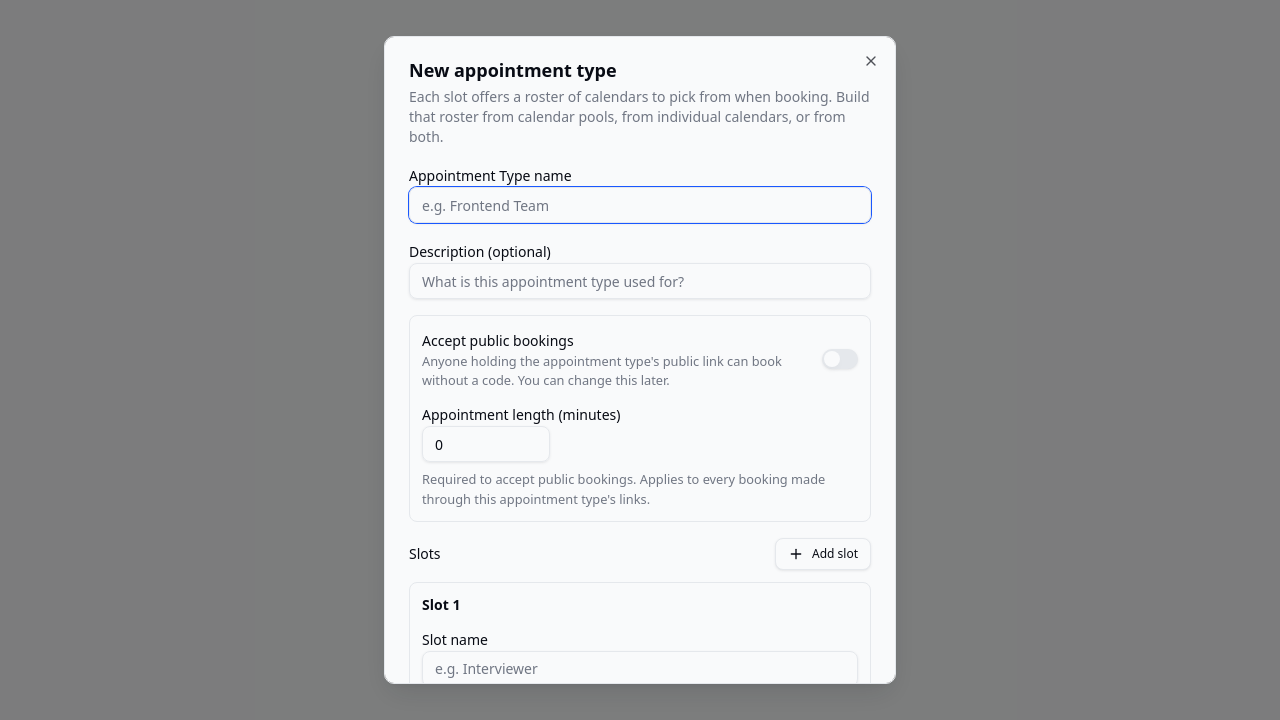
Test: CreateAppointmentTypeDialog › blocks submit when required_count exceeds the roster size
Type "Pool Size Appointment Type" into the field with placeholder "e.g. Frontend Team" at (640, 205), box [409,187,871,223]
Type "Overloaded" into the field with placeholder "e.g. Interviewer" at (640, 669), box [422,651,858,687]
(page scrolled)
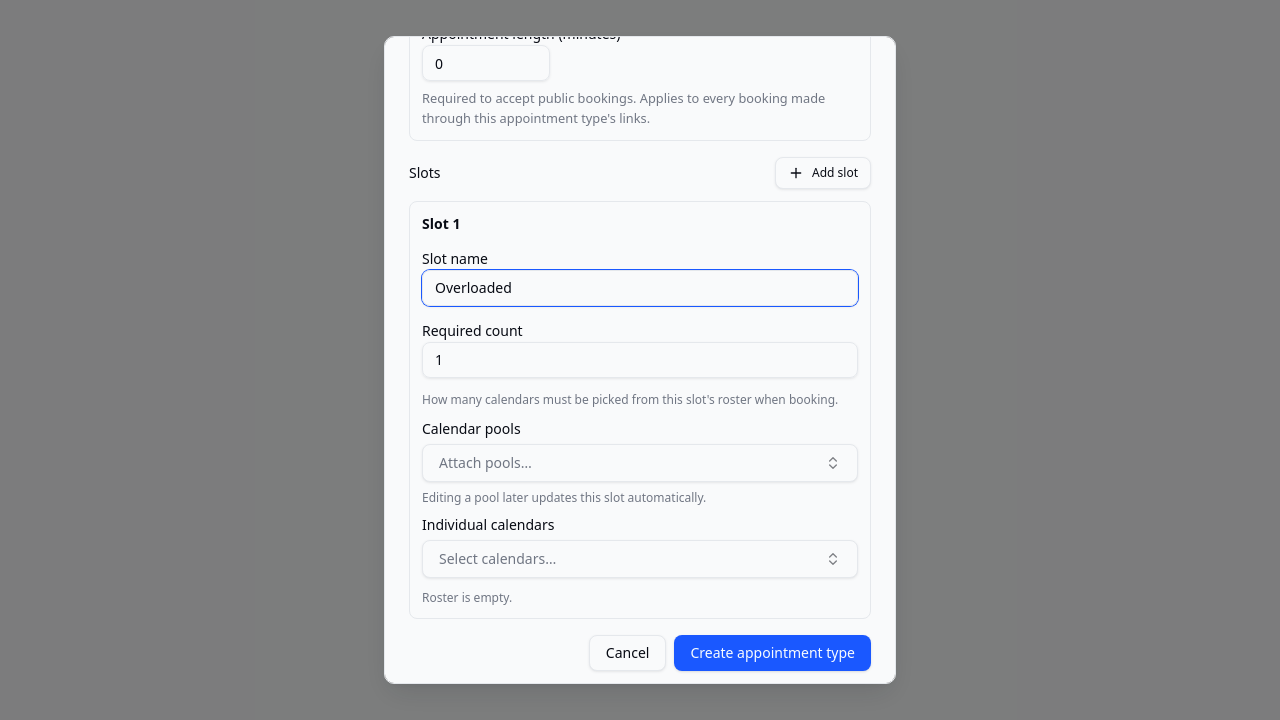
Replace the text in the number field showing "1" with "2" at (640, 360), box [422,342,858,378]
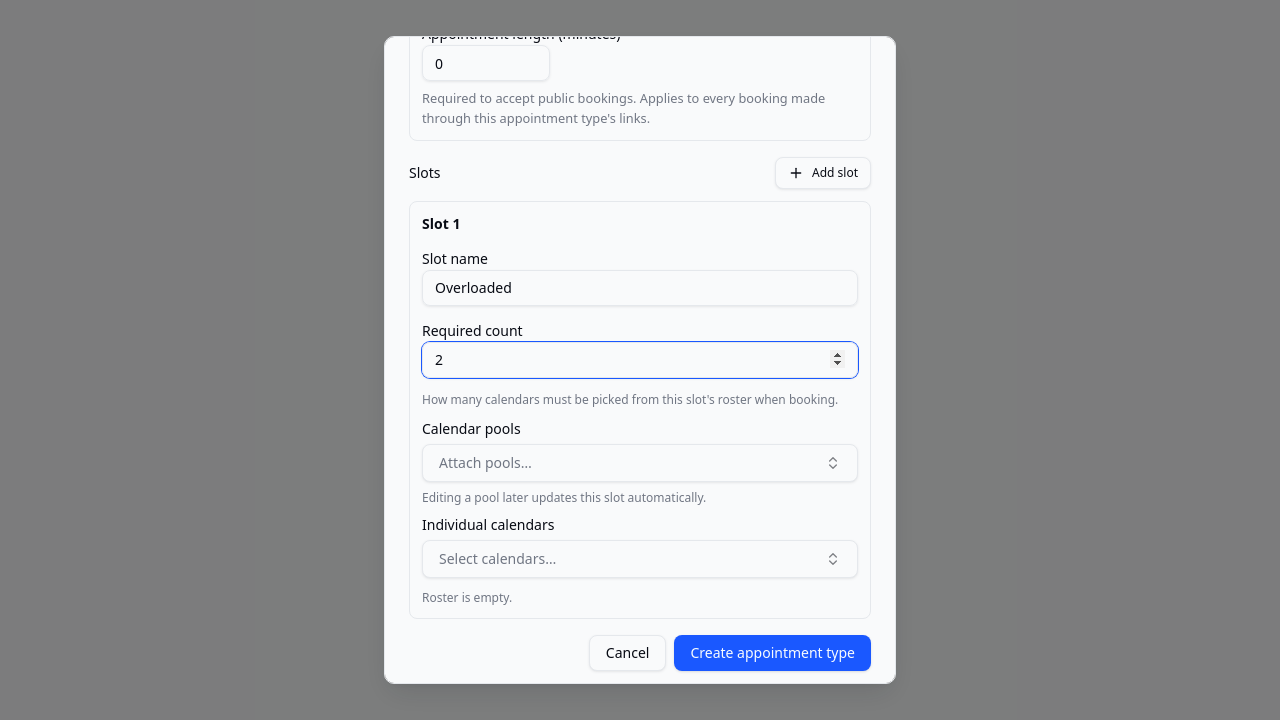
Click the dropdown named "individual calendars" at (498, 558), box [422,540,858,578]
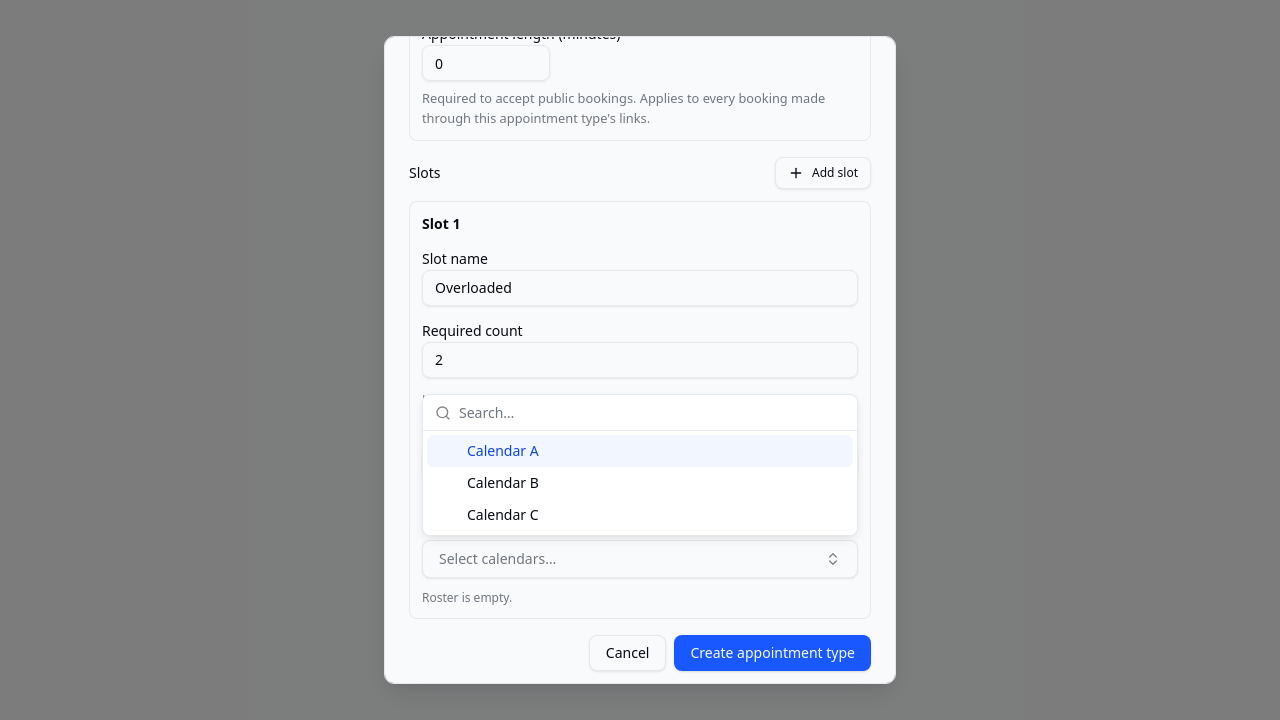
Click the option "Calendar A" at (503, 450), box [427,435,853,467]
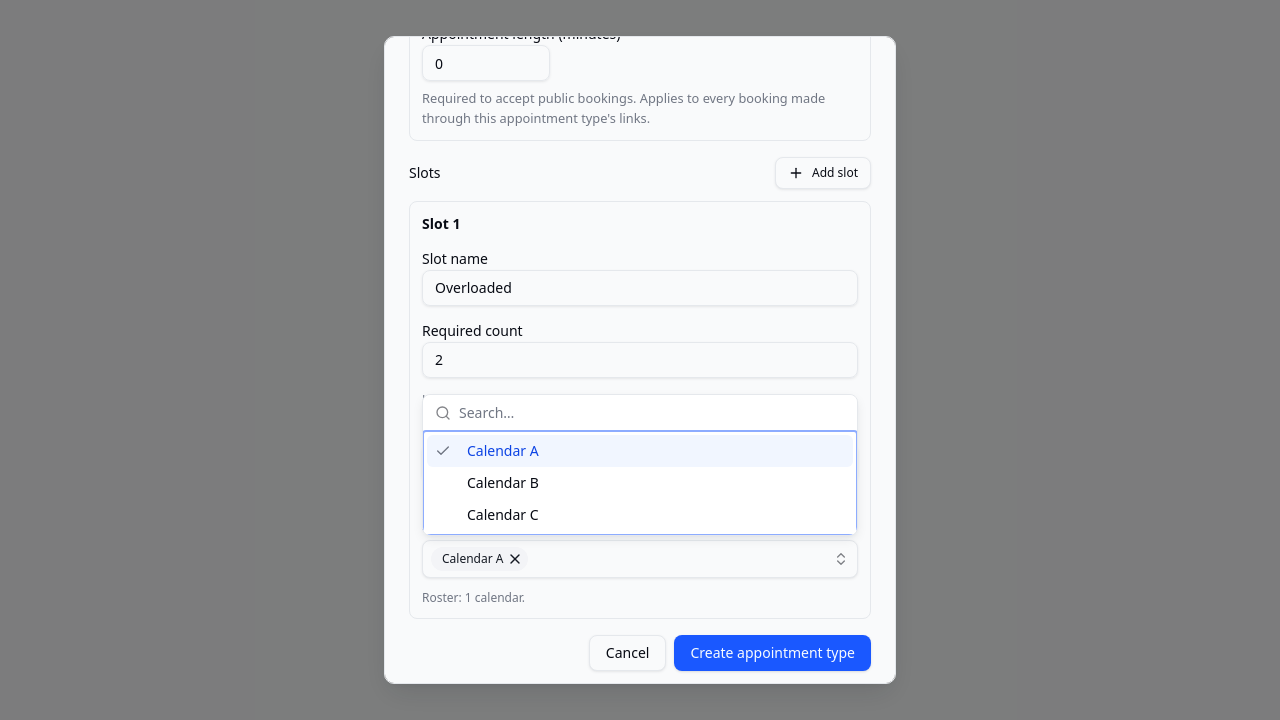
Press Escape
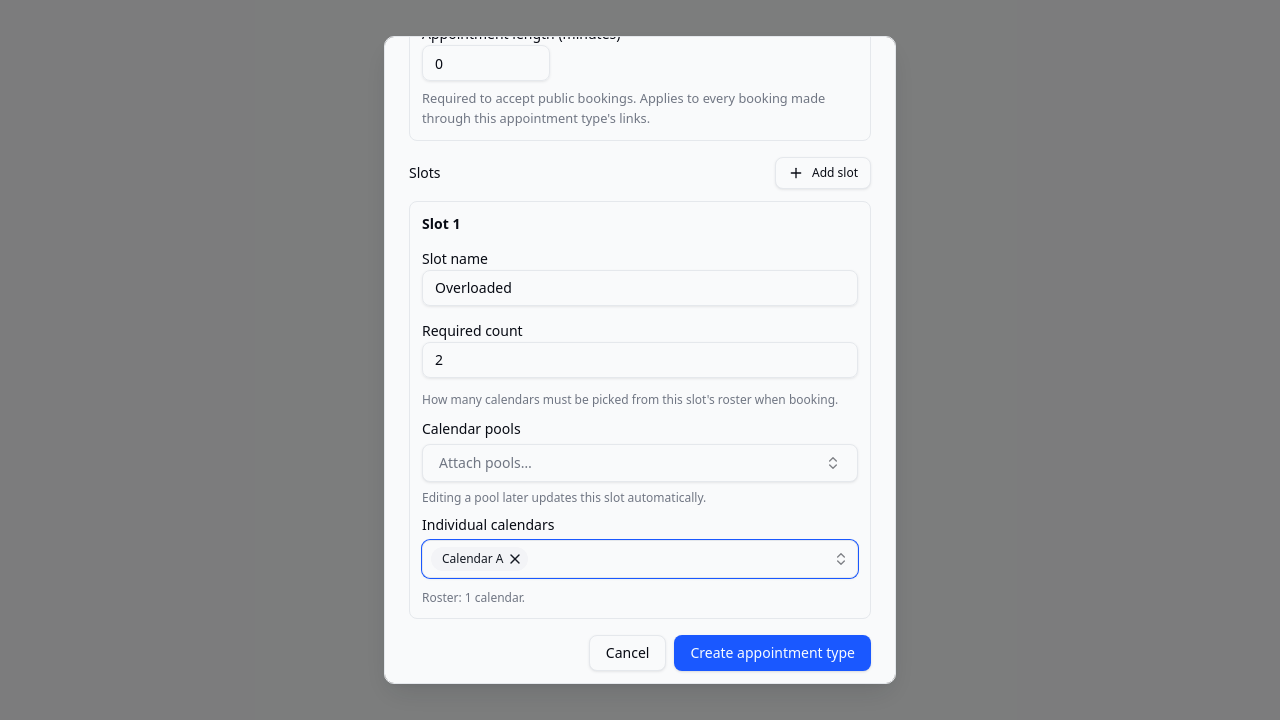
Click the button with test id "create-appointment-type-submit" at (773, 653), box [674,635,871,671]
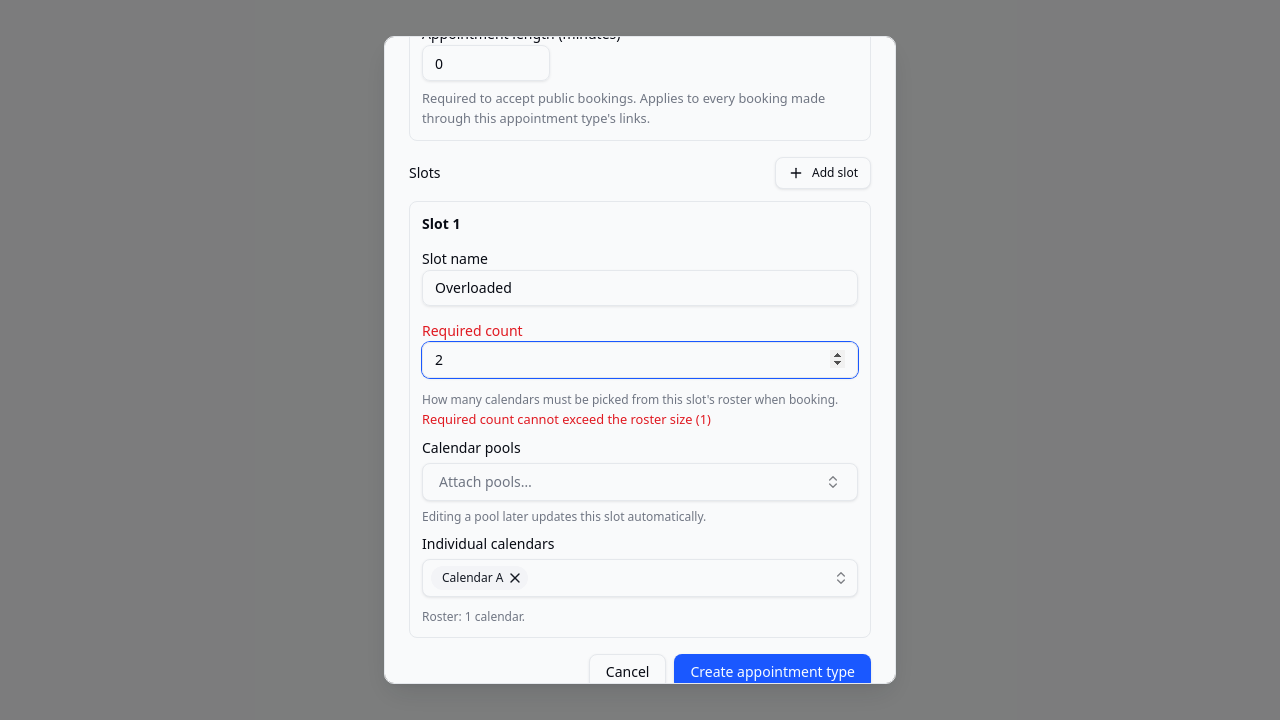
Expected: the text "Required count cannot exceed the roster size (1)" is shown, [422,410,711,428]
